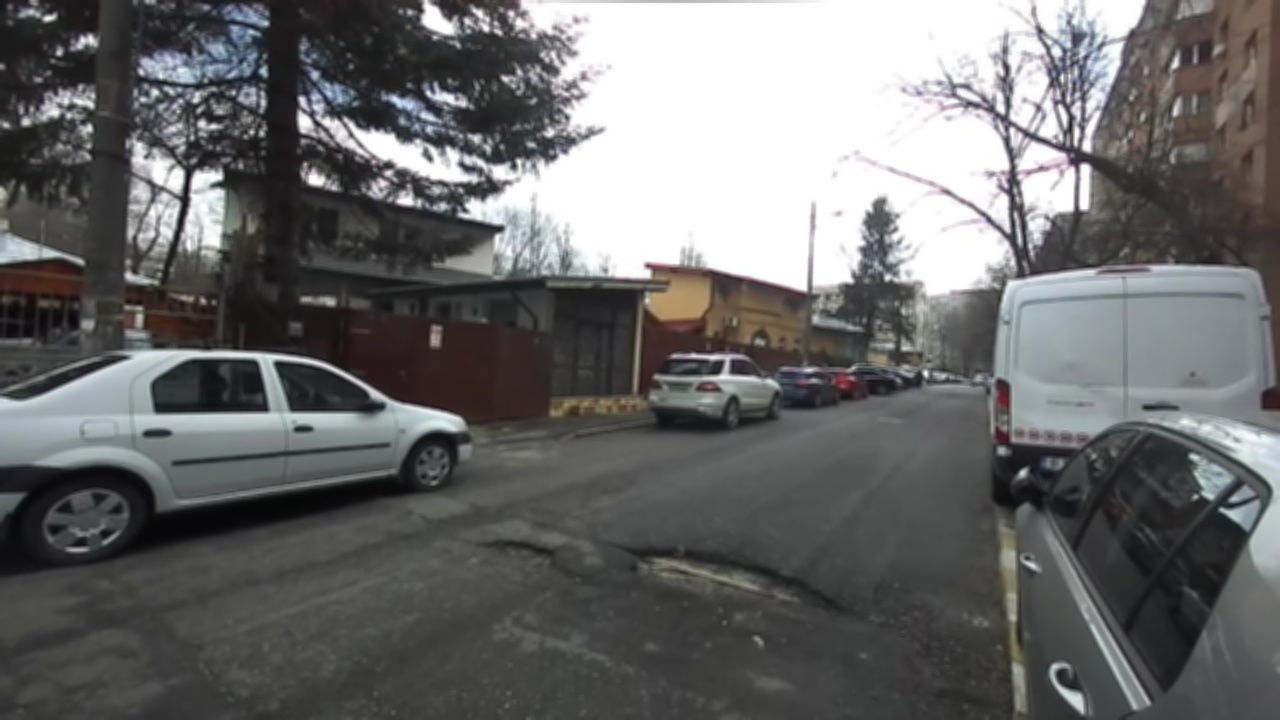pothole: (615, 540, 856, 624), (471, 536, 570, 576)
